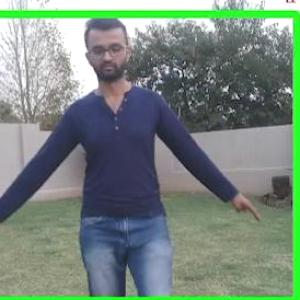land: (1, 29, 261, 299)
